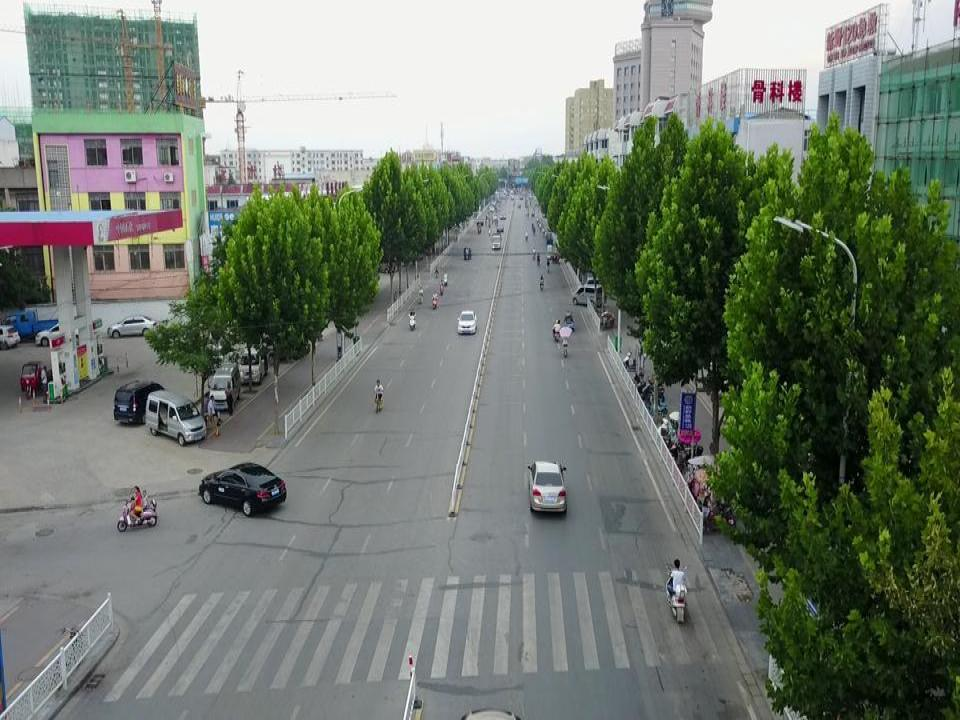car: (197, 463, 286, 516), (524, 459, 570, 520), (113, 376, 168, 425), (104, 312, 160, 339), (31, 323, 80, 348), (236, 347, 267, 384), (454, 309, 479, 335), (495, 223, 503, 233)
truck: (0, 309, 61, 339), (490, 233, 502, 250)
van: (145, 391, 206, 446), (210, 361, 240, 412), (570, 284, 604, 308)
